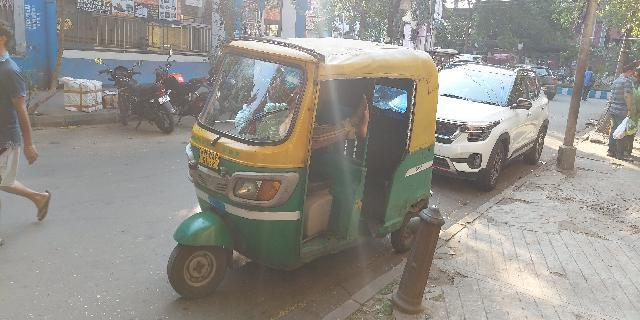Autorickshaw: (158, 38, 438, 291)
Car: (438, 63, 556, 183)
Motorbike: (89, 59, 179, 136)
